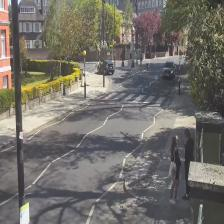person: (182, 127, 194, 200)
